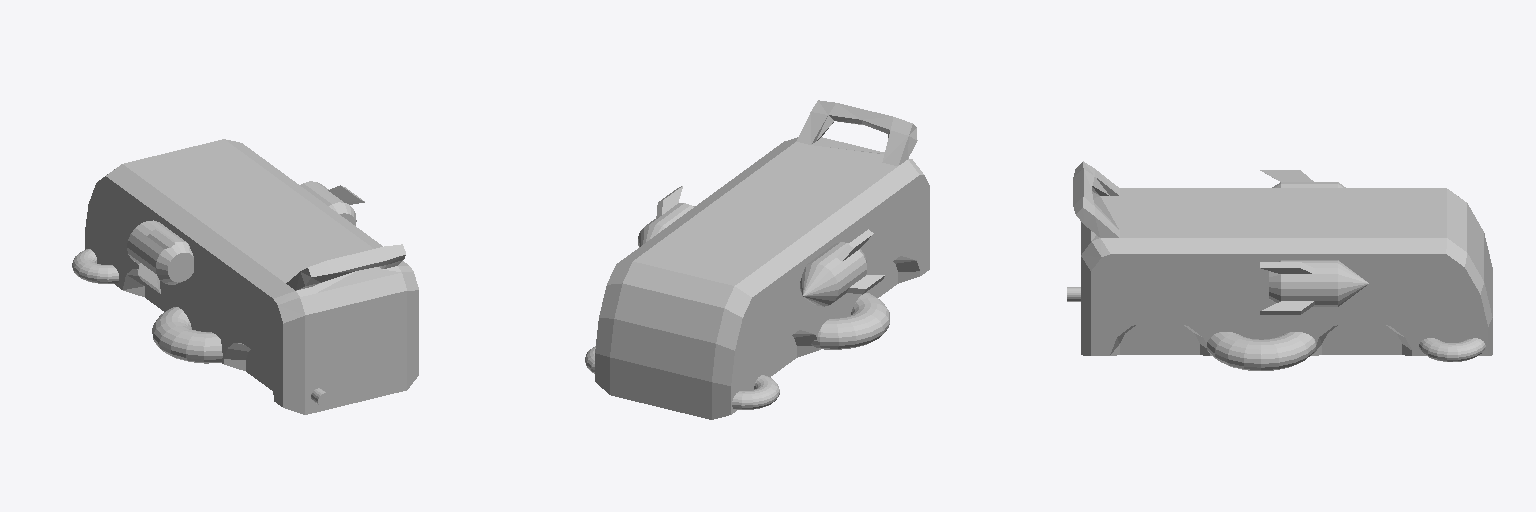
The model's file is RyanCarBody.obj.
The picture shows the model from 3 angles: view 1: azimuth 30°, elevation 25°; view 2: azimuth 150°, elevation 25°; view 3: azimuth 270°, elevation 25°; orthographic projection.
Bounding box in the file's own units: 3.62 × 2.38 × 6.18.